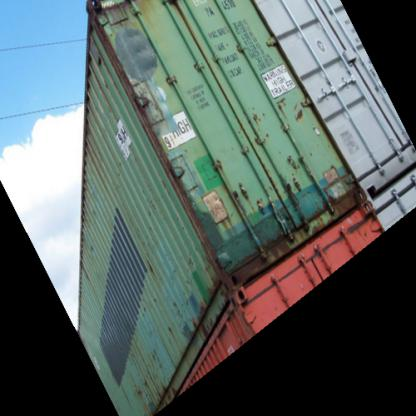Damage: (153, 114, 232, 288), (219, 162, 348, 267), (98, 4, 158, 164)
